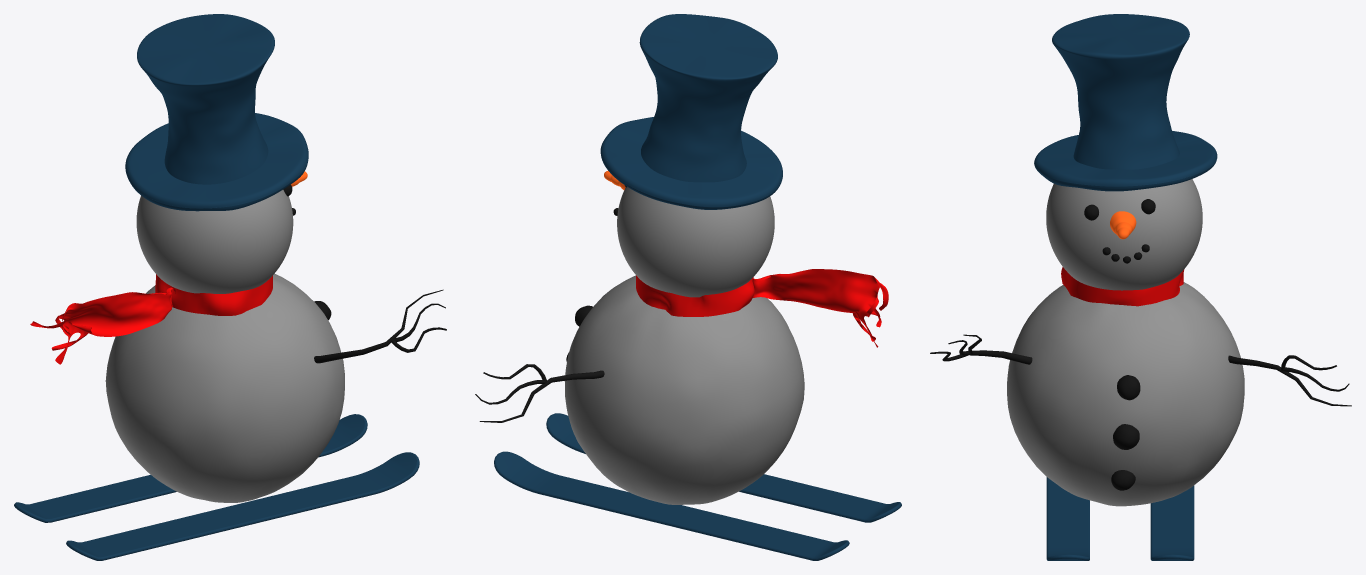
File: snomannew.fbx
3 renders of one model, left to right at view 1: azimuth 30°, elevation 25°; view 2: azimuth 150°, elevation 25°; view 3: azimuth 270°, elevation 25°, orthographic.
Visible parts, largest first — view 1: Expression_1; view 2: Expression_1; view 3: Expression_1.
Boxes of the visible parts, <box> form: Expression_1: <box>14,14,446,560</box>; Expression_1: <box>475,14,901,560</box>; Expression_1: <box>930,14,1351,560</box>.
Size of the model in its own units: 669 by 824 by 685.
